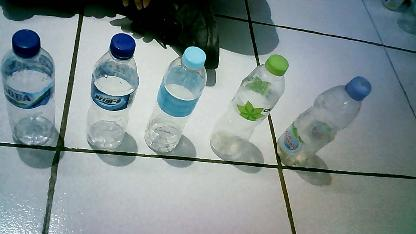Plastic Bottle: (276, 76, 374, 176), (210, 50, 289, 166), (0, 25, 60, 153), (144, 45, 208, 159), (85, 27, 141, 153)
